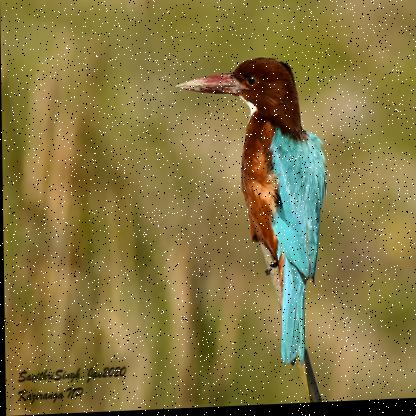Burung: (175, 58, 326, 374)
